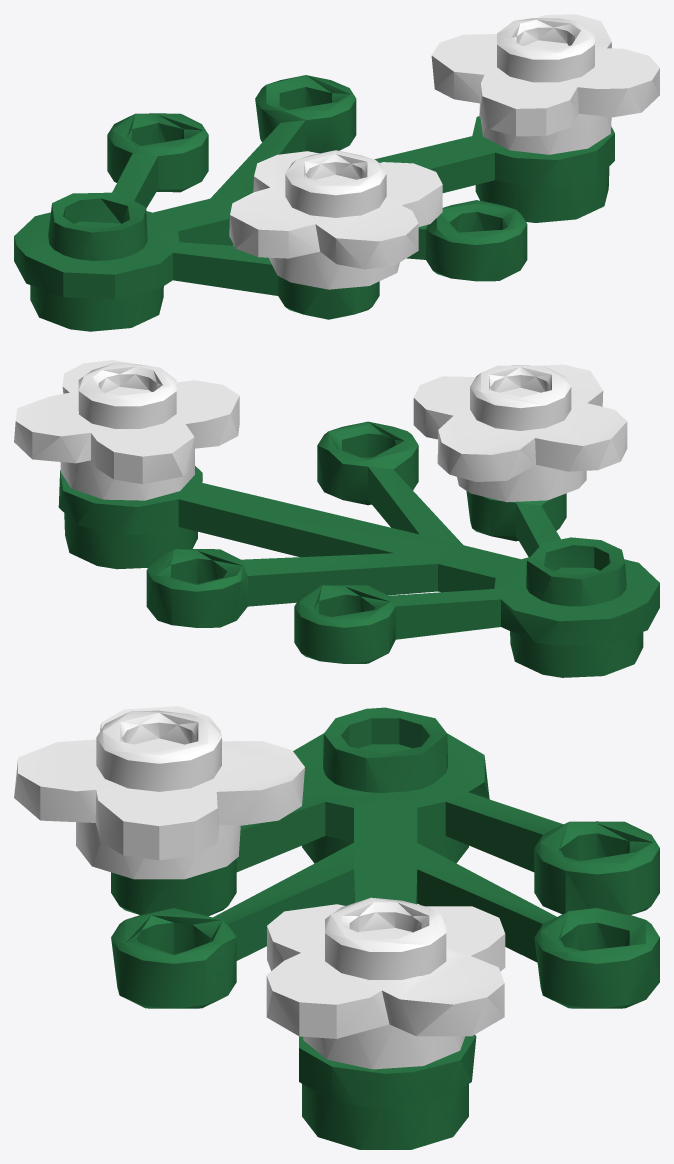
The model's file is frog_stem_b_white.glb.
3 renders of one model, top to bottom at view 1: azimuth 30°, elevation 25°; view 2: azimuth 150°, elevation 25°; view 3: azimuth 270°, elevation 25°, orthographic. The views are drawn at different scales.
Parts seen in each view (by area): view 1: frog_stem_b_white; view 2: frog_stem_b_white; view 3: frog_stem_b_white.
Boxes of the visible parts, x1,y1,x2,y2 form: frog_stem_b_white: [14, 14, 659, 331]; frog_stem_b_white: [14, 360, 659, 677]; frog_stem_b_white: [14, 706, 659, 1149].
Bounding box in the file's own units: 1.17 × 0.3053 × 0.875.
